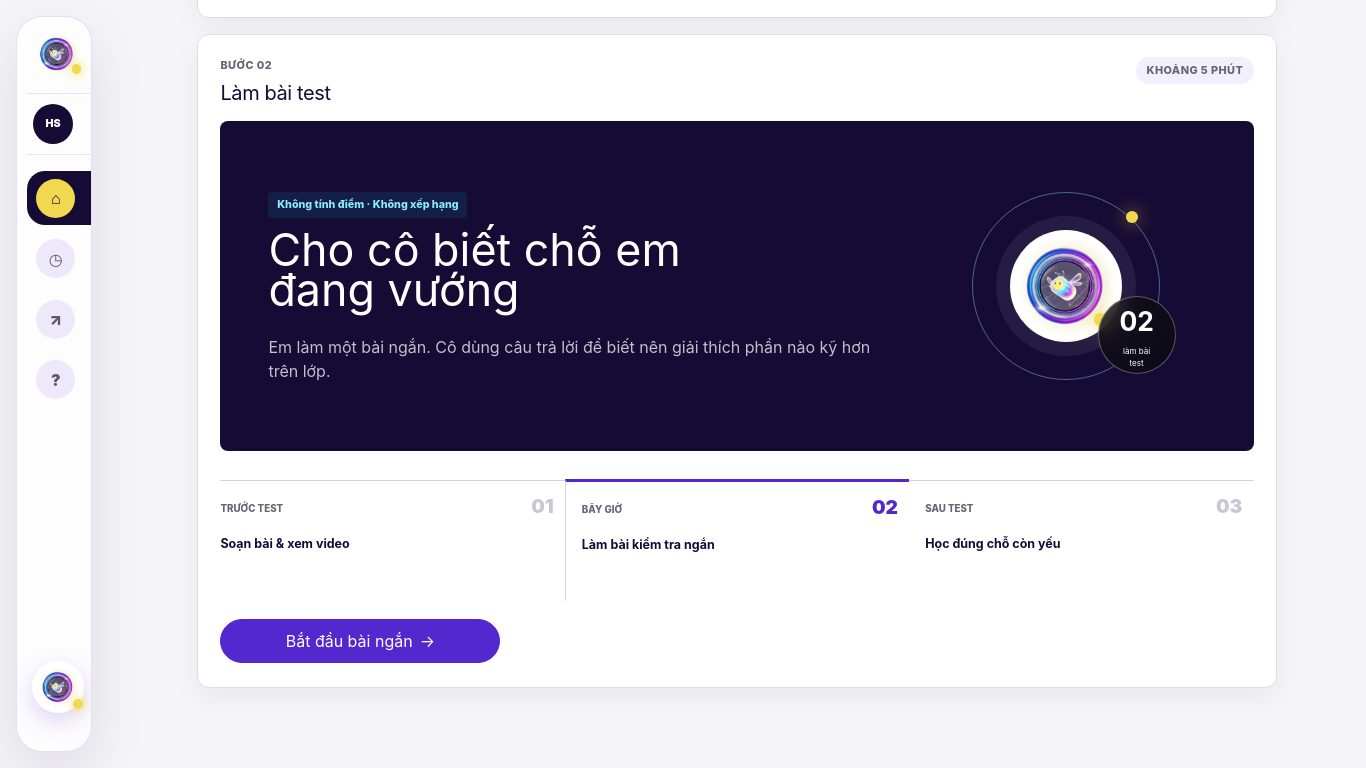
Test: StudentWorkspace › requires an option to be selected before enabling submit
The image size is (1366, 768).
(page scrolled)
Click the button "Bắt đầu bài ngắn →". click: (360, 641)
box: [220,619,500,663]
(page scrolled)
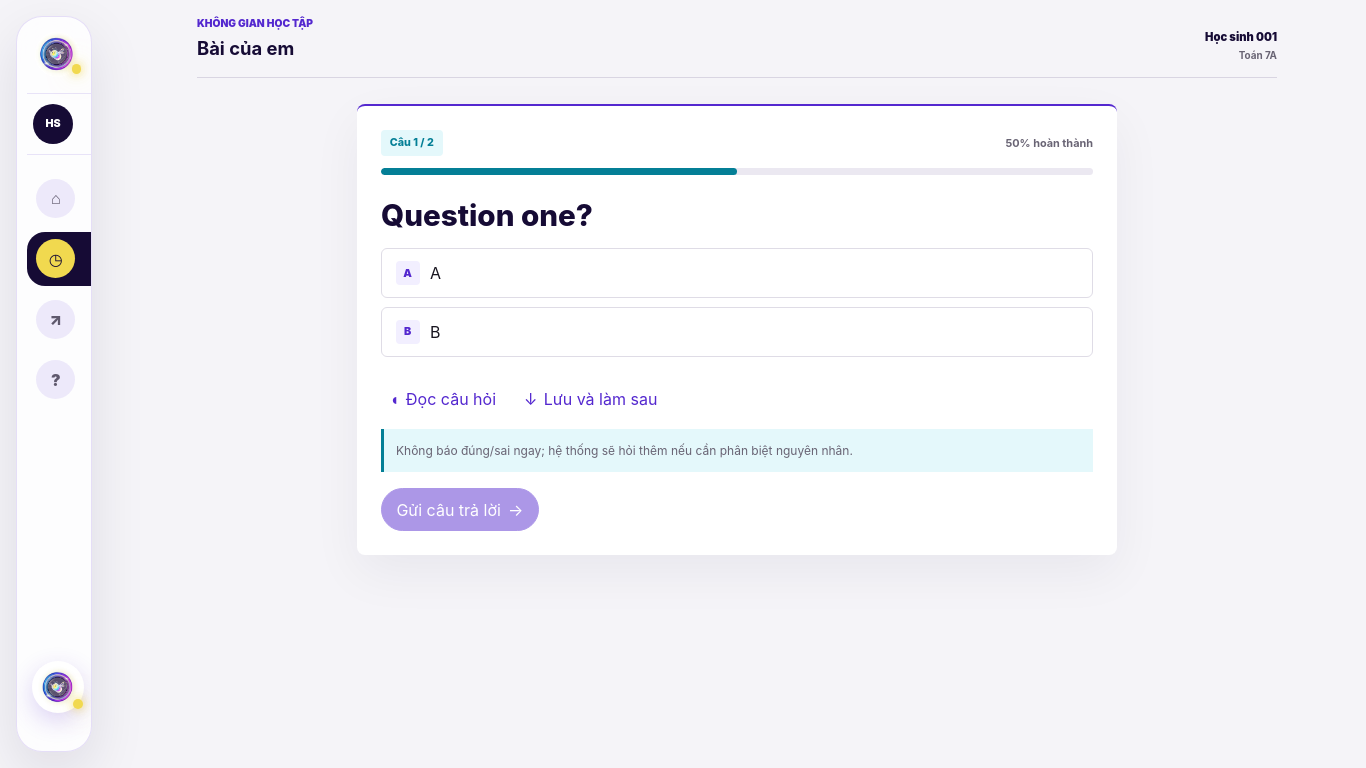
Expected: the heading "Question one?" is shown, [381,197,593,233]
Expected: the button "Gửi câu trả lời →" is disabled, [381,488,539,531]
Click the radio button labelled "A A". click: (408, 273)
box: [381,248,1093,298]
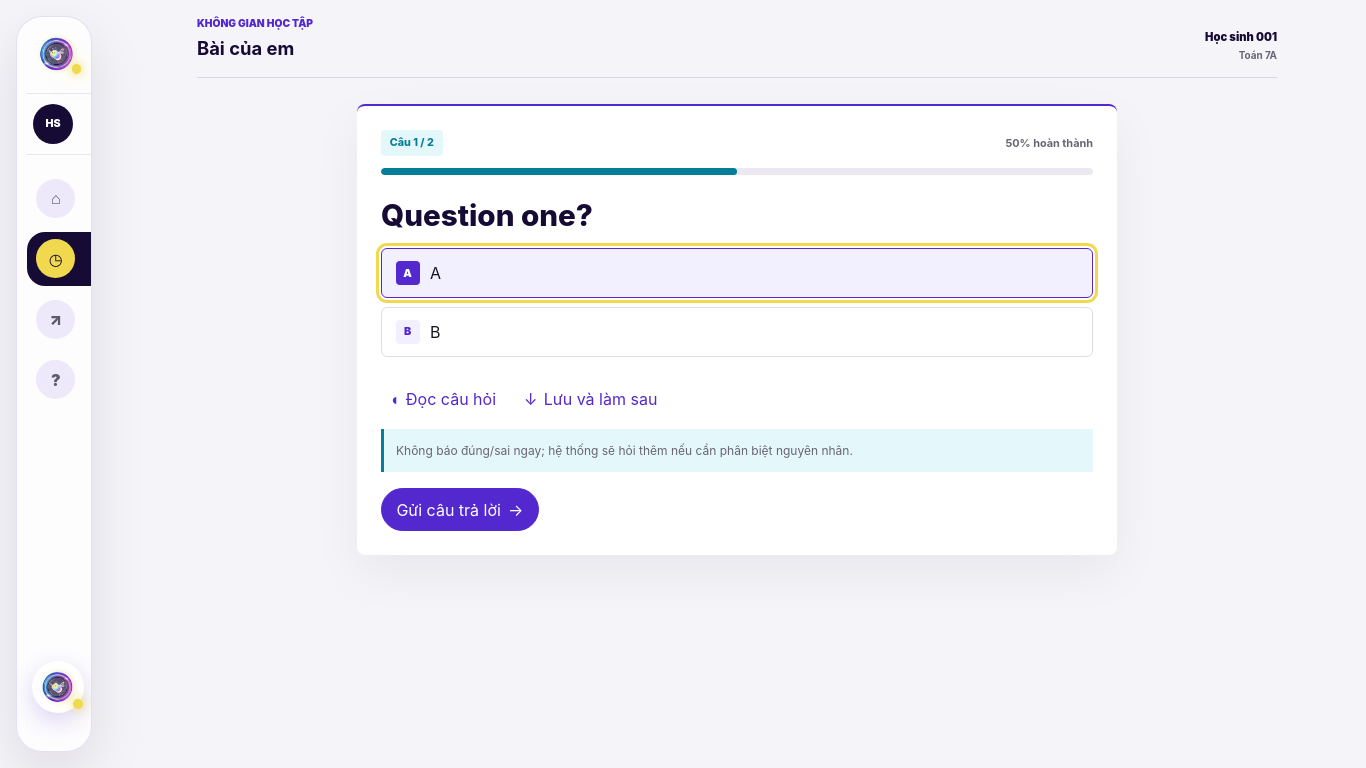
Expected: the button "Gửi câu trả lời →" is enabled, [381,488,539,531]
